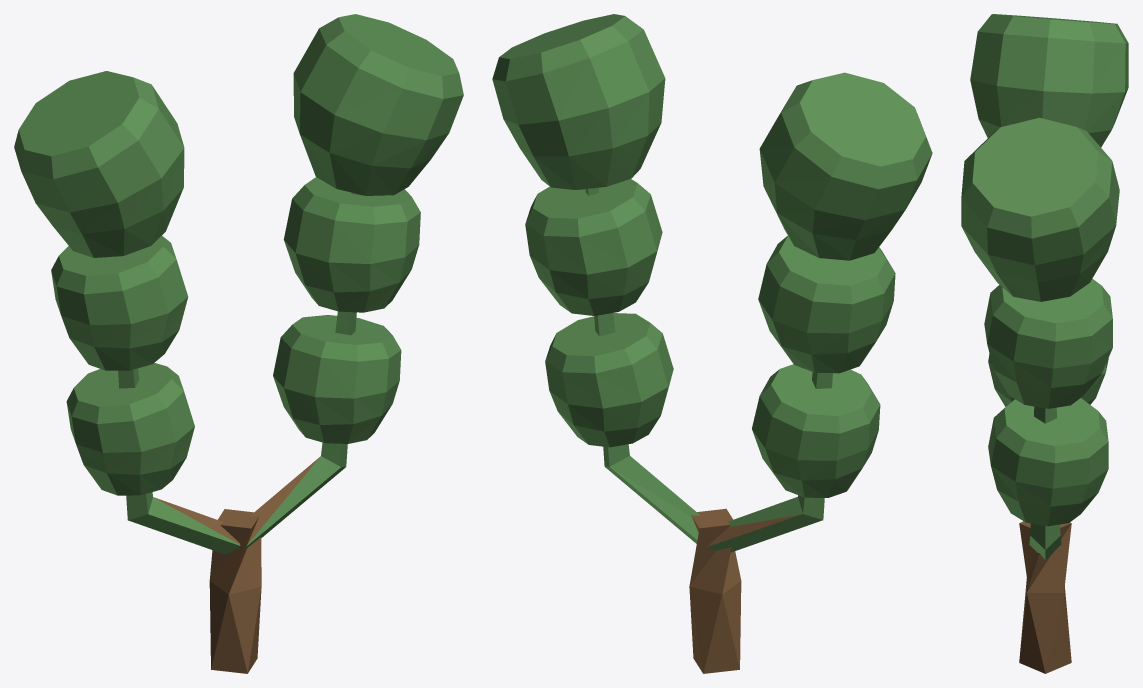
The model's file is tree3d-002.glb.
The picture shows the model from 3 angles, left to right: view 1: azimuth 30°, elevation 25°; view 2: azimuth 150°, elevation 25°; view 3: azimuth 270°, elevation 25°; orthographic projection. The views are drawn at different scales.
Visible parts, largest first — view 1: tree3d-002; view 2: tree3d-002; view 3: tree3d-002.
Part boxes in pixels (<box>): tree3d-002: <box>14,14,463,673</box>; tree3d-002: <box>492,14,932,673</box>; tree3d-002: <box>961,14,1128,673</box>.
Size of the model in its own units: 0.7251 by 1 by 0.2542.
